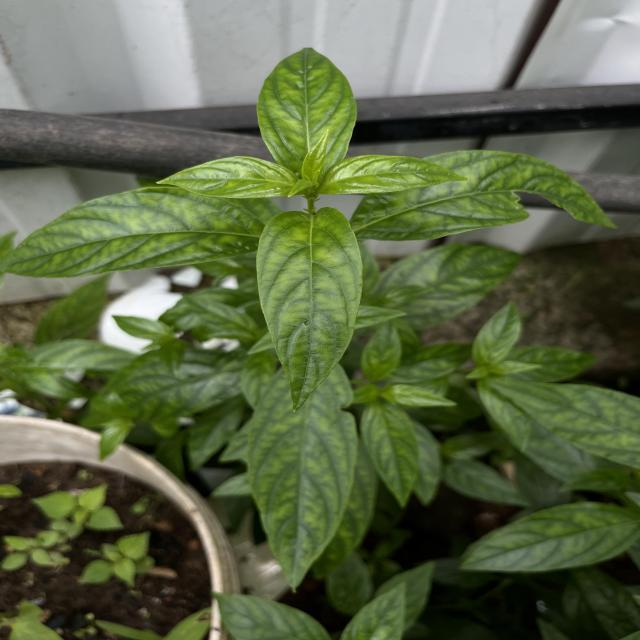Andrographis paniculata: (2, 186, 262, 280), (256, 207, 366, 414), (248, 398, 358, 586), (459, 497, 640, 575), (256, 46, 358, 176), (498, 382, 640, 470), (372, 244, 520, 314), (118, 346, 243, 418), (321, 154, 472, 196), (360, 406, 422, 508), (154, 156, 292, 200)
